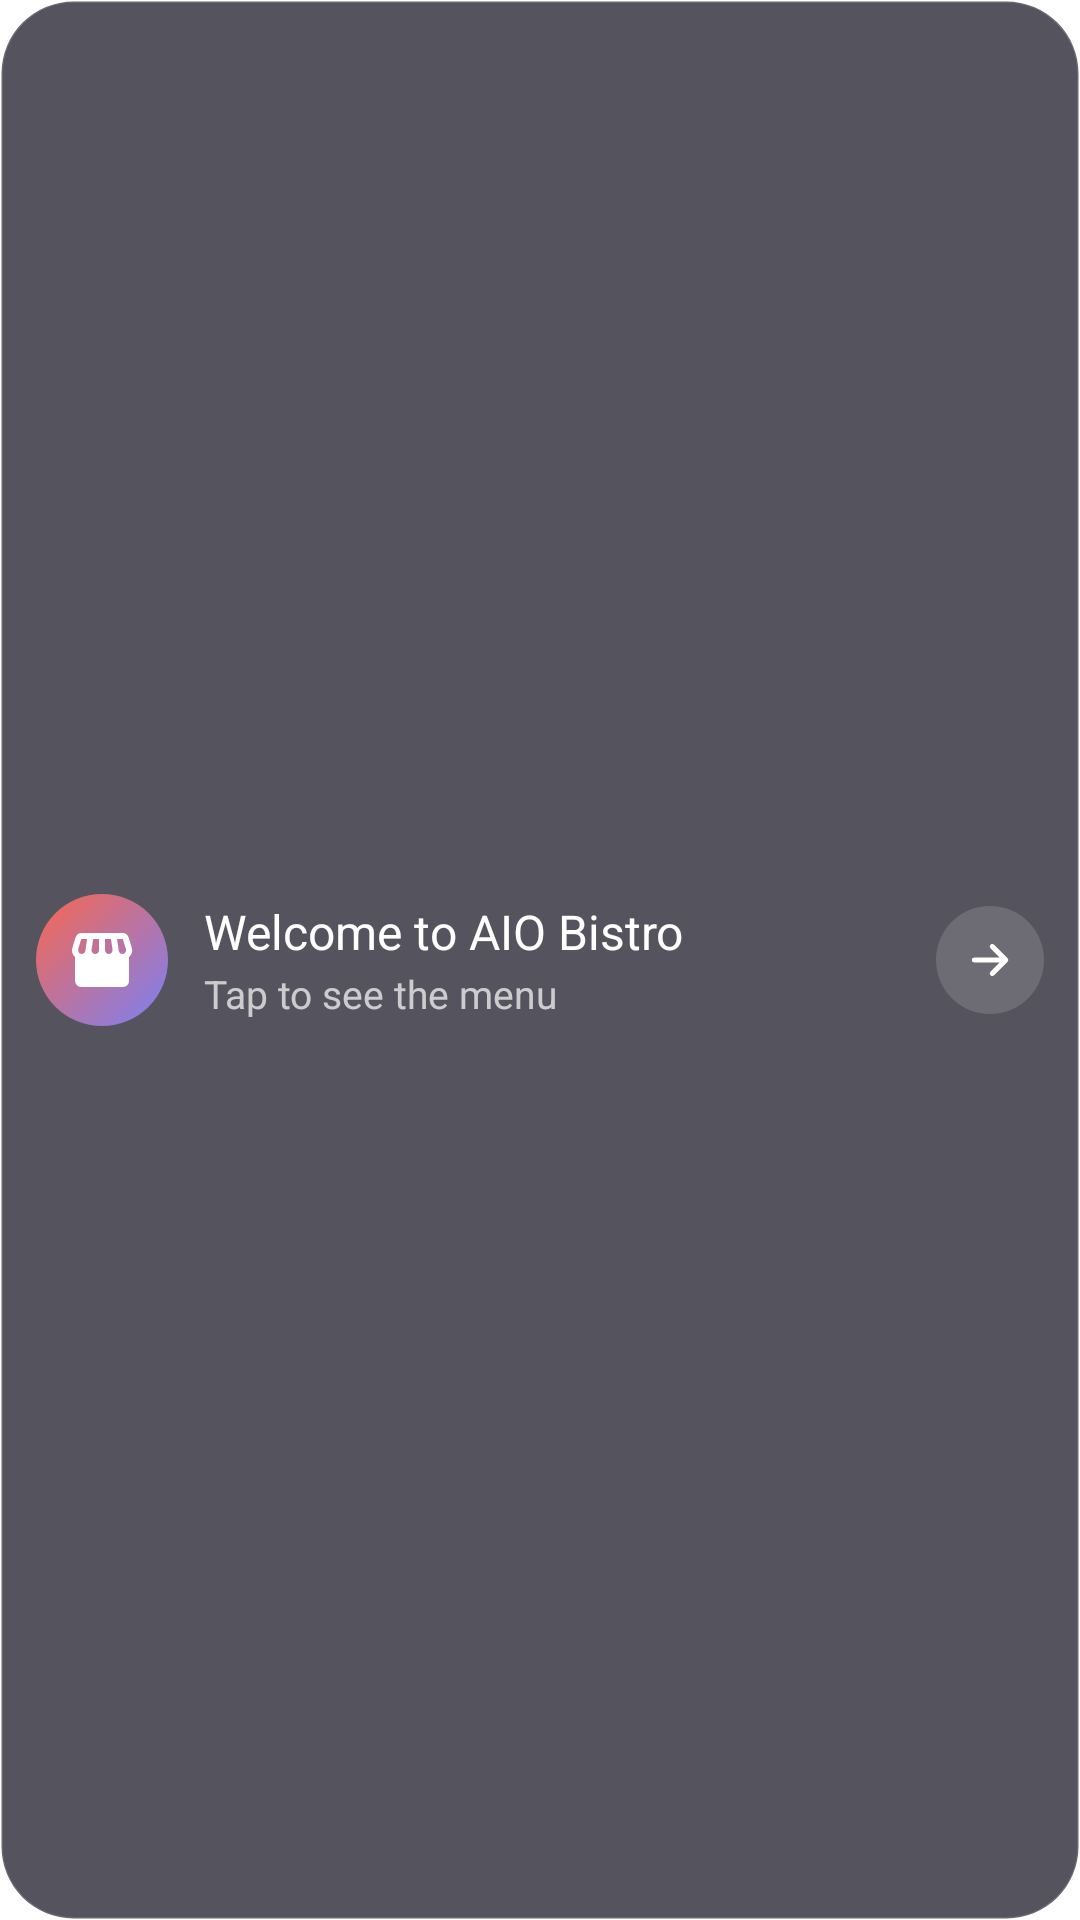

Icon click points for this 1080px x 1920px phone screenshot, format (x=x, y=y):
guest arrow: (x=990, y=960)
guest storefront: (x=102, y=960)
